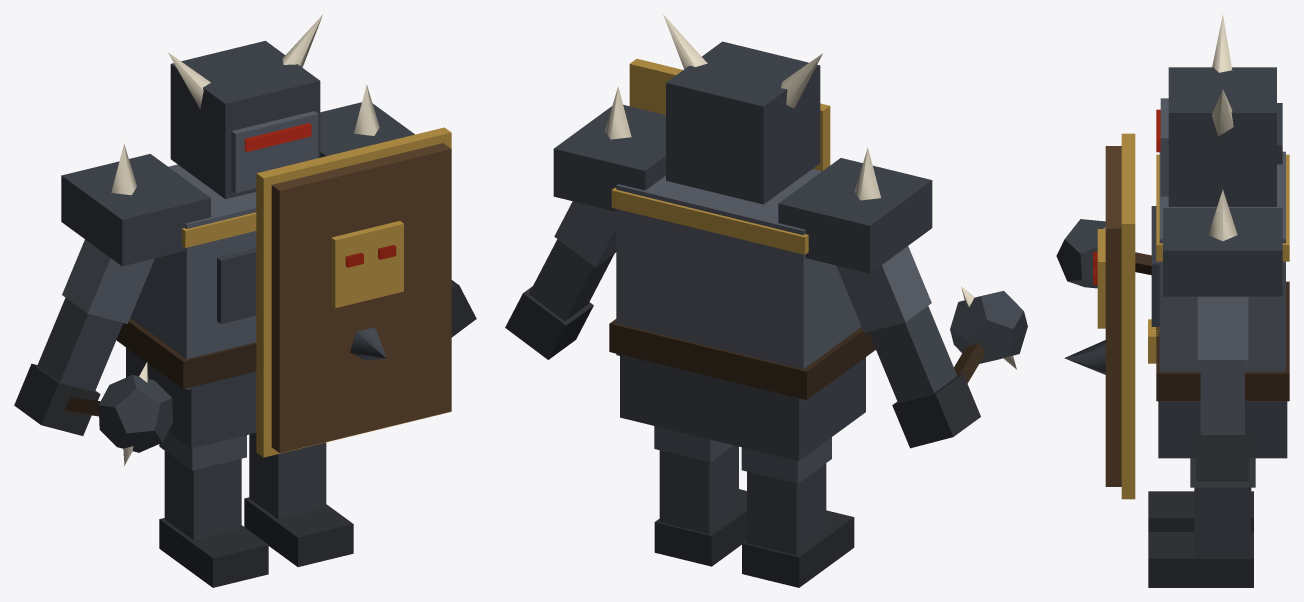
File: BO_SK_Enemy_Brute_v001.glb
3 views of the same model, side by side, from view 1: azimuth 30°, elevation 25°; view 2: azimuth 150°, elevation 25°; view 3: azimuth 270°, elevation 25° (orthographic). The views are drawn at different scales.
Visible parts, largest first — view 1: attachment_031, body_007, body_028, body_006, attachment_030, body_036, body_004, body_001, attachment_032, body_016, body_005, body_002 (+16 smaller); view 2: body_006, body_007, body_036, body_028, body_023, body_026, body_004, body_001, body_016, body_015, body_005, attachment_019 (+14 smaller); view 3: body_007, body_026, body_006, attachment_031, attachment_030, body_036, body_002, body_001, body_013, body_012, body_023, body_014 (+14 smaller).
Part boxes in pixels (box(x1,y1,x2,y2)): attachment_031: box(271, 143, 451, 452); body_007: box(170, 40, 320, 199); body_028: box(61, 154, 210, 266); body_006: box(130, 164, 256, 389); attachment_030: box(256, 127, 451, 457); body_036: box(126, 347, 256, 448); body_004: box(164, 451, 241, 540); body_001: box(249, 433, 326, 519); attachment_032: box(331, 221, 403, 307); body_016: box(37, 297, 123, 391); body_005: box(159, 518, 268, 587); body_002: box(244, 497, 353, 566); body_006: box(616, 169, 861, 400); body_007: box(666, 41, 820, 204); body_036: box(620, 354, 865, 460); body_028: box(778, 158, 932, 273); body_023: box(609, 319, 875, 399); body_026: box(553, 104, 665, 211); body_004: box(747, 463, 826, 555); body_001: box(659, 445, 738, 533); body_016: box(868, 306, 957, 402); body_015: box(836, 246, 931, 332); body_005: box(742, 510, 854, 587); attachment_019: box(950, 291, 1027, 363); body_007: box(1168, 67, 1276, 206); body_026: box(1163, 208, 1282, 296); body_006: box(1159, 151, 1285, 401); attachment_031: box(1105, 146, 1121, 486); attachment_030: box(1121, 133, 1135, 499); body_036: box(1158, 401, 1287, 458); body_002: box(1148, 532, 1253, 587); body_001: box(1194, 487, 1251, 556); body_013: box(1200, 360, 1244, 434); body_012: box(1197, 296, 1248, 360); body_023: box(1156, 281, 1289, 401); body_014: box(1196, 435, 1249, 481).
Bounding box in the file's own units: 2.16 × 2.41 × 1.01.
